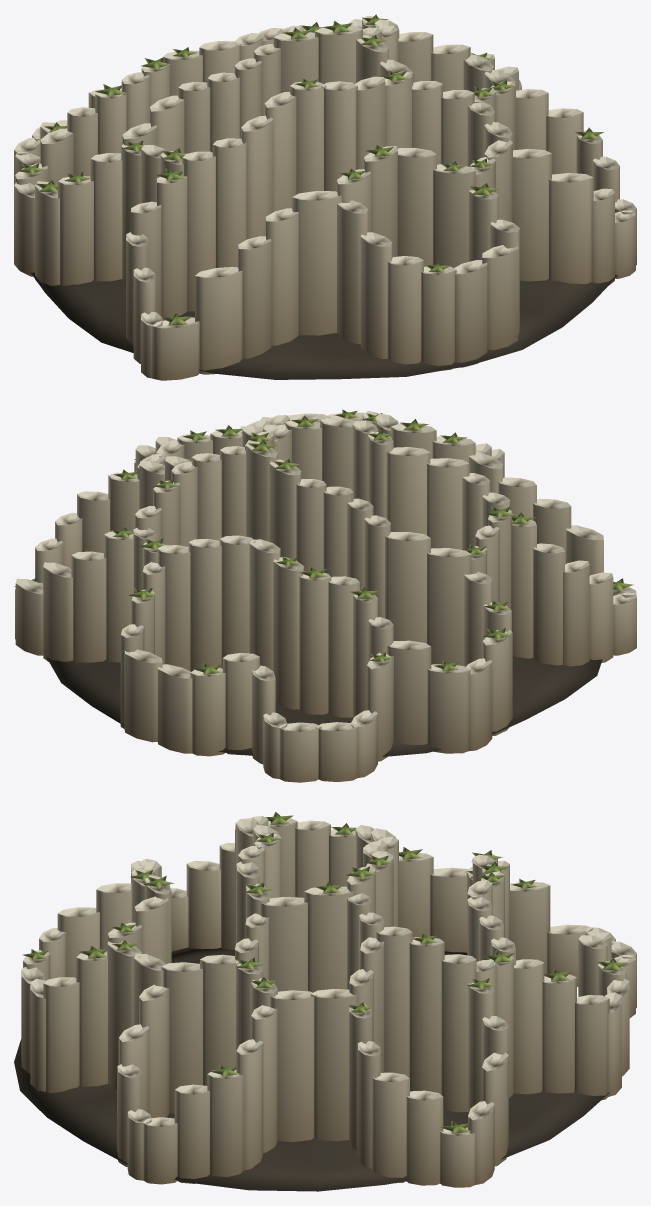
File: HalysitesCatenularia.fbx
3 views of the same model, one above another, from view 1: azimuth 30°, elevation 25°; view 2: azimuth 150°, elevation 25°; view 3: azimuth 270°, elevation 25° (orthographic). The views are drawn at different scales.
Visible parts, largest first — view 1: HalysitesCatenularia; view 2: HalysitesCatenularia; view 3: HalysitesCatenularia.
Part boxes in pixels (x1,y1,x2,y2): HalysitesCatenularia: (14,14,636,380); HalysitesCatenularia: (14,409,636,782); HalysitesCatenularia: (14,811,636,1191).
Bounding box in the file's own units: 1.4 × 0.5806 × 1.45.
